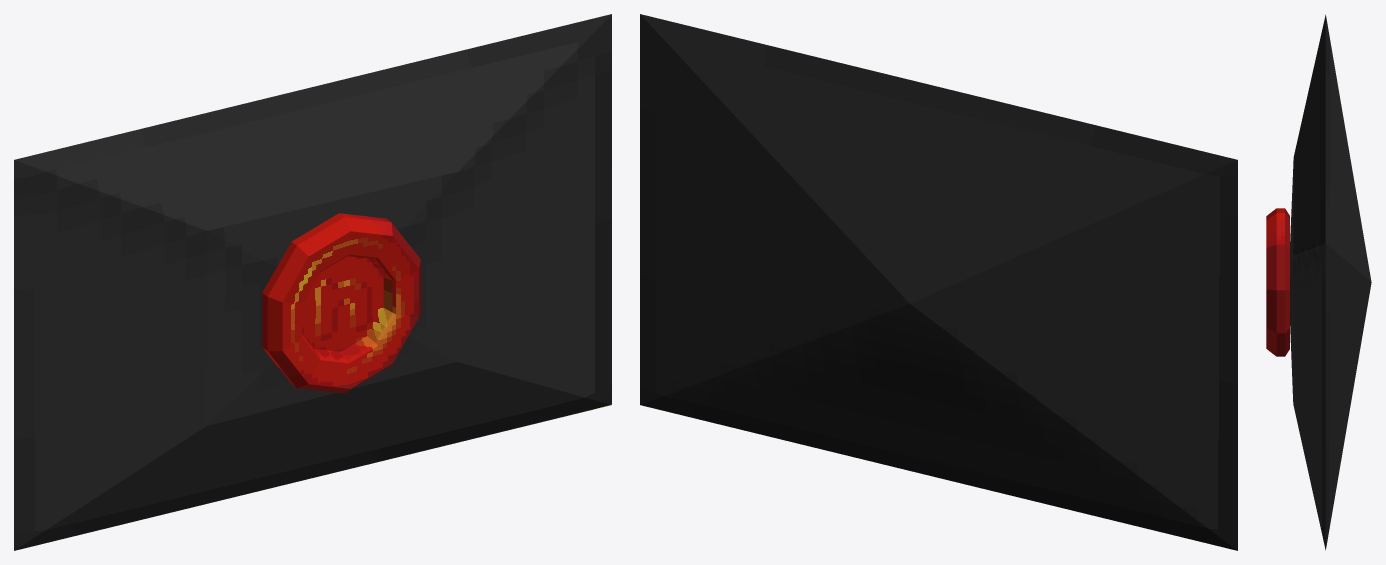
The model's file is letter.gltf.
The picture shows the model from 3 angles, left to right: view 1: azimuth 30°, elevation 25°; view 2: azimuth 150°, elevation 25°; view 3: azimuth 270°, elevation 25°; orthographic projection. The views are drawn at different scales.
Parts seen in each view (by area): view 1: sphere, circle; view 2: sphere; view 3: sphere, circle.
Boxes of the visible parts, x1,y1,x2,y2 form: sphere: (14,14,611,550); circle: (262,213,420,393); sphere: (640,14,1237,550); sphere: (1290,14,1371,550); circle: (1266,208,1289,356).
Size of the model in its own units: 2 by 1.25 by 0.3875.
2 materials, 2 textured.
